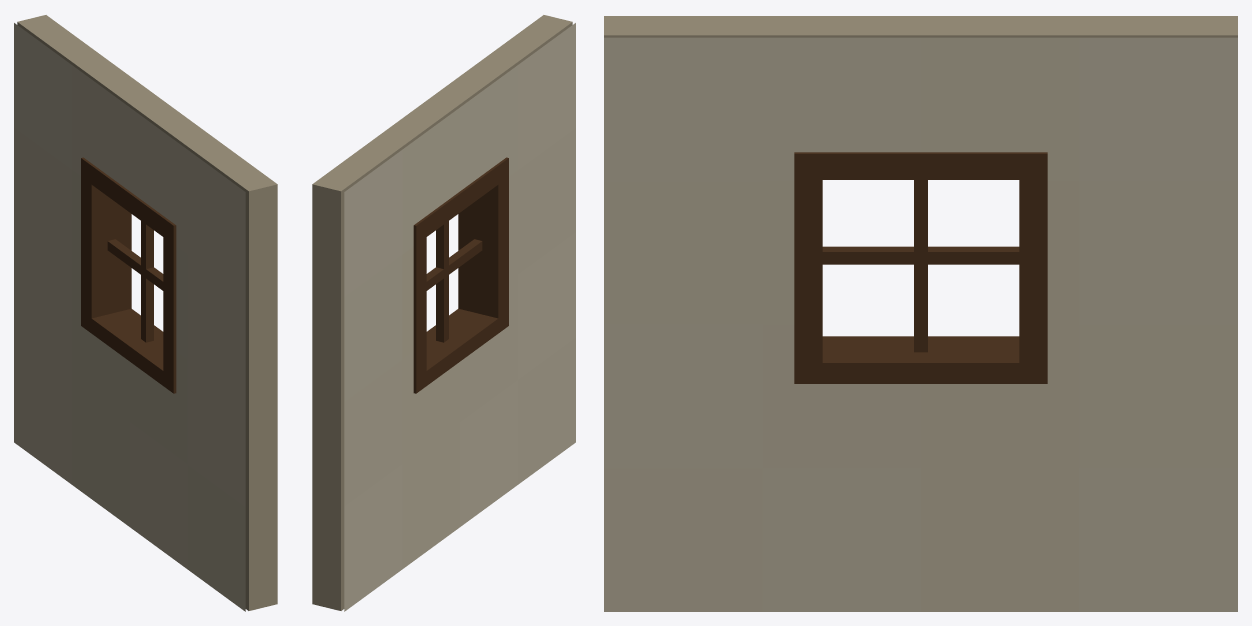
File: wall-plaster-window.glb
3 renders of one model, left to right at view 1: azimuth 30°, elevation 25°; view 2: azimuth 150°, elevation 25°; view 3: azimuth 270°, elevation 25°, orthographic. The views are drawn at different scales.
Visible parts, largest first — view 1: wall-plaster-window; view 2: wall-plaster-window; view 3: wall-plaster-window.
Boxes of the visible parts, <box> form: wall-plaster-window: <box>14,15,277,611</box>; wall-plaster-window: <box>312,15,575,611</box>; wall-plaster-window: <box>604,16,1237,611</box>.
Size of the model in its own units: 0.1 by 1 by 1.
